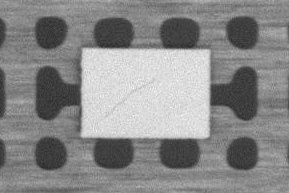DIE_CRACK: (95, 78, 154, 126)
